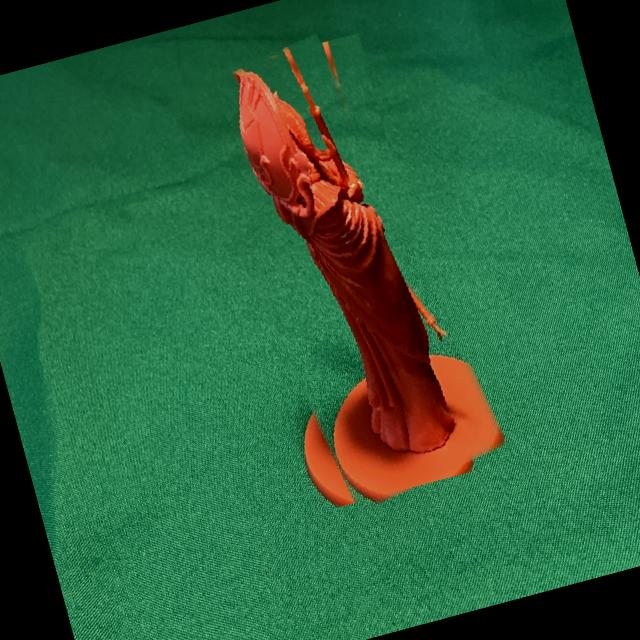amon: (180, 22, 495, 522)
